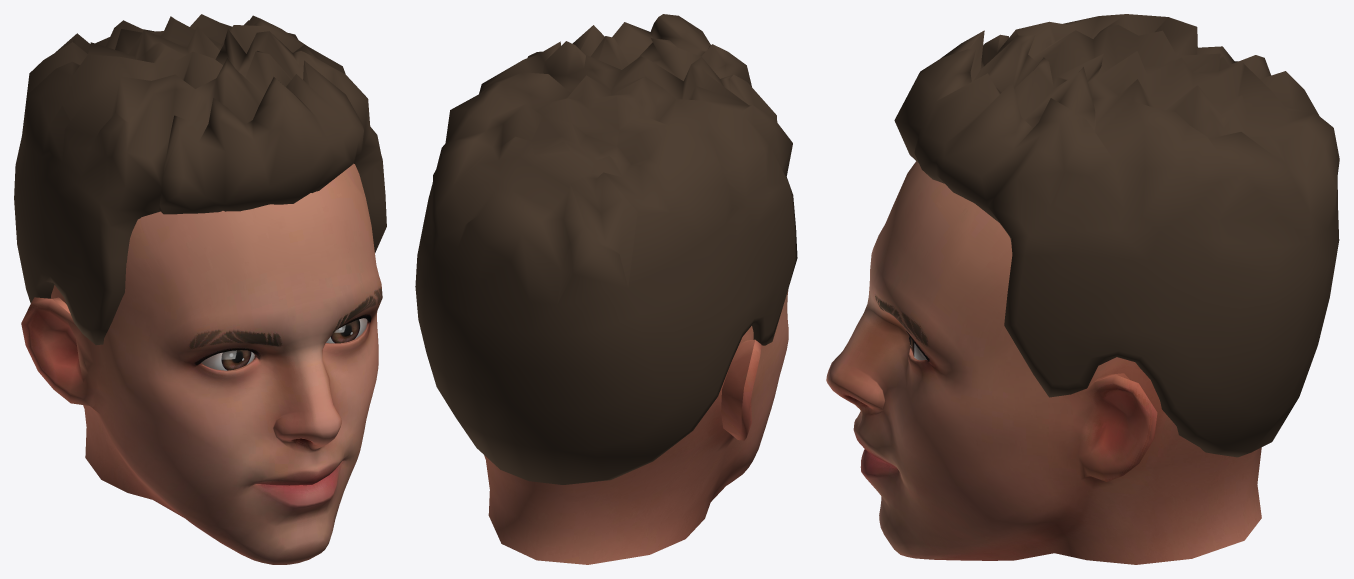
The picture shows the model from 3 angles, left to right: view 1: azimuth 30°, elevation 25°; view 2: azimuth 150°, elevation 25°; view 3: azimuth 270°, elevation 25°; orthographic projection. The views are drawn at different scales.
Parts seen in each view (by area): view 1: Wolf3D_Head, Wolf3D_Hair, EyeRight, EyeLeft; view 2: Wolf3D_Hair, Wolf3D_Head; view 3: Wolf3D_Hair, Wolf3D_Head.
Part boxes in pixels (x1=…): Wolf3D_Head: x1=21, y1=163, x2=382, y2=564; Wolf3D_Hair: x1=14, y1=14, x2=386, y2=345; EyeRight: x1=201, y1=350, x2=254, y2=370; EyeLeft: x1=326, y1=318, x2=367, y2=343; Wolf3D_Hair: x1=415, y1=14, x2=797, y2=484; Wolf3D_Head: x1=484, y1=288, x2=788, y2=564; Wolf3D_Hair: x1=894, y1=14, x2=1339, y2=457; Wolf3D_Head: x1=826, y1=161, x2=1261, y2=564.
Bounding box in the file's own units: 0.1799 × 0.2505 × 0.2266.
Materials: 5 (5 with a texture image).
